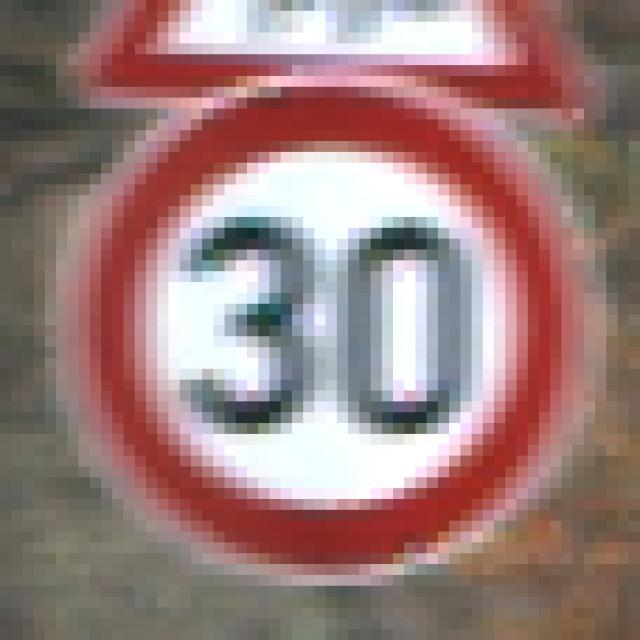Speed Limit -30-: (50, 59, 568, 570)
